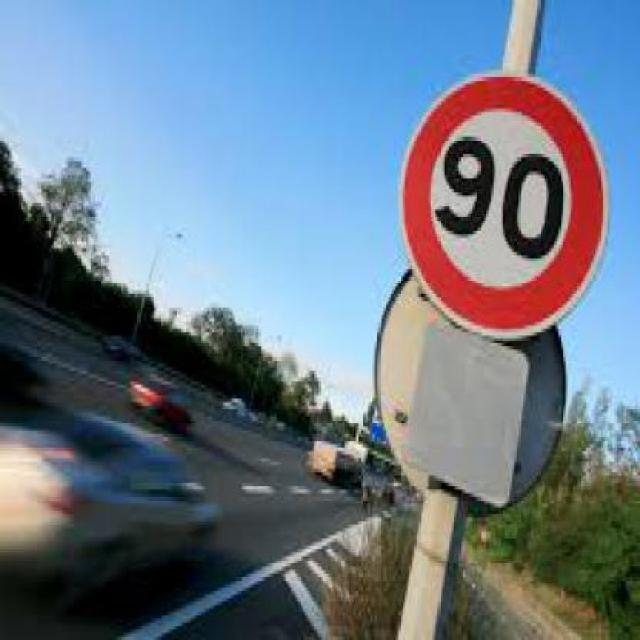Ograniczenie predkosci do 90: (399, 83, 604, 330)
